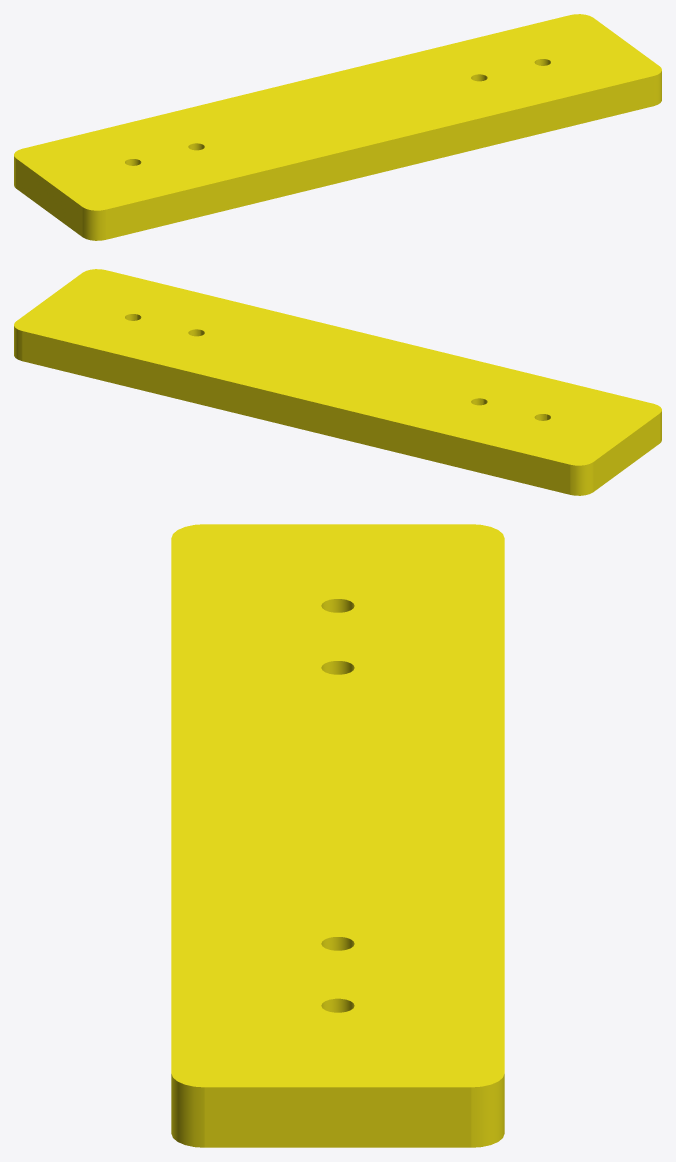
The model's file is frameLGSBlock3d.glb.
The picture shows the model from 3 angles, top to bottom: view 1: azimuth 30°, elevation 25°; view 2: azimuth 150°, elevation 25°; view 3: azimuth 270°, elevation 25°; orthographic projection. The views are drawn at different scales.
Parts seen in each view (by area): view 1: Body1010; view 2: Body1010; view 3: Body1010.
Part boxes in pixels (bbox=[...]): Body1010: bbox=[14, 14, 661, 240]; Body1010: bbox=[14, 269, 661, 495]; Body1010: bbox=[171, 524, 504, 1147].
Size of the model in its own units: 2 by 0.122 by 0.5.
